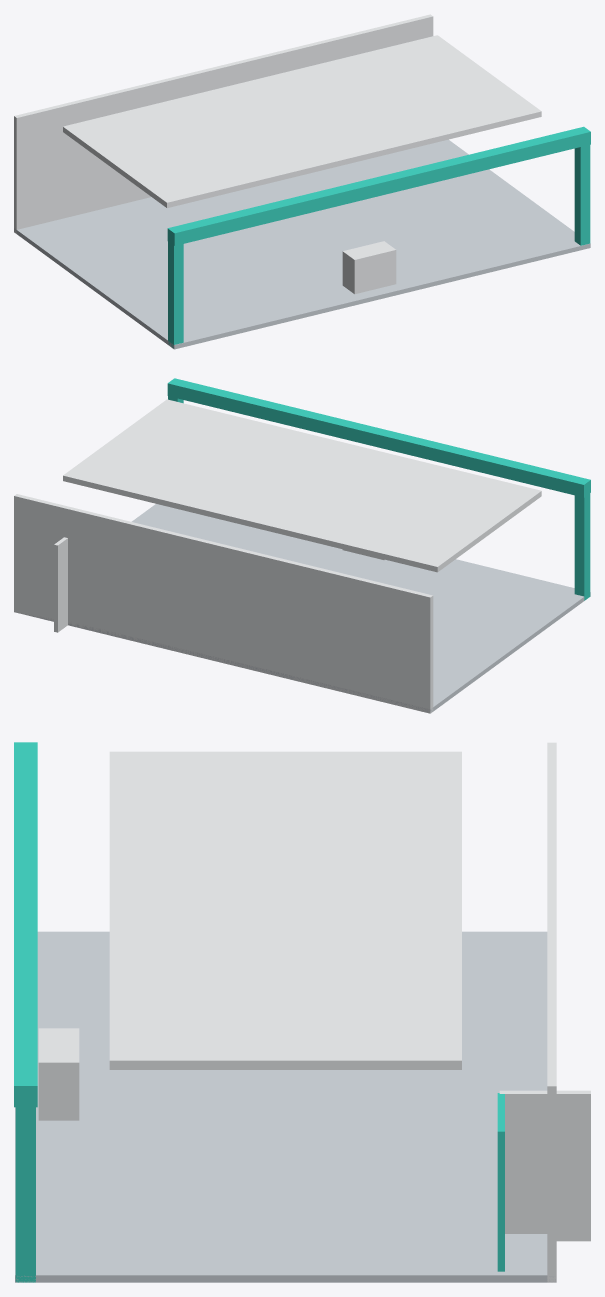
The picture shows the model from 3 angles, top to bottom: view 1: azimuth 30°, elevation 25°; view 2: azimuth 150°, elevation 25°; view 3: azimuth 270°, elevation 25°; orthographic projection. The views are drawn at different scales.
Visible parts, largest first — view 1: Exhibition Booth Concept; view 2: Exhibition Booth Concept; view 3: Exhibition Booth Concept.
Boxes of the visible parts, x1,y1,x2,y2 form: Exhibition Booth Concept: [14, 14, 590, 349]; Exhibition Booth Concept: [14, 378, 590, 713]; Exhibition Booth Concept: [14, 742, 590, 1282].
Size of the model in its own units: 12 by 3.34 by 8.52.
